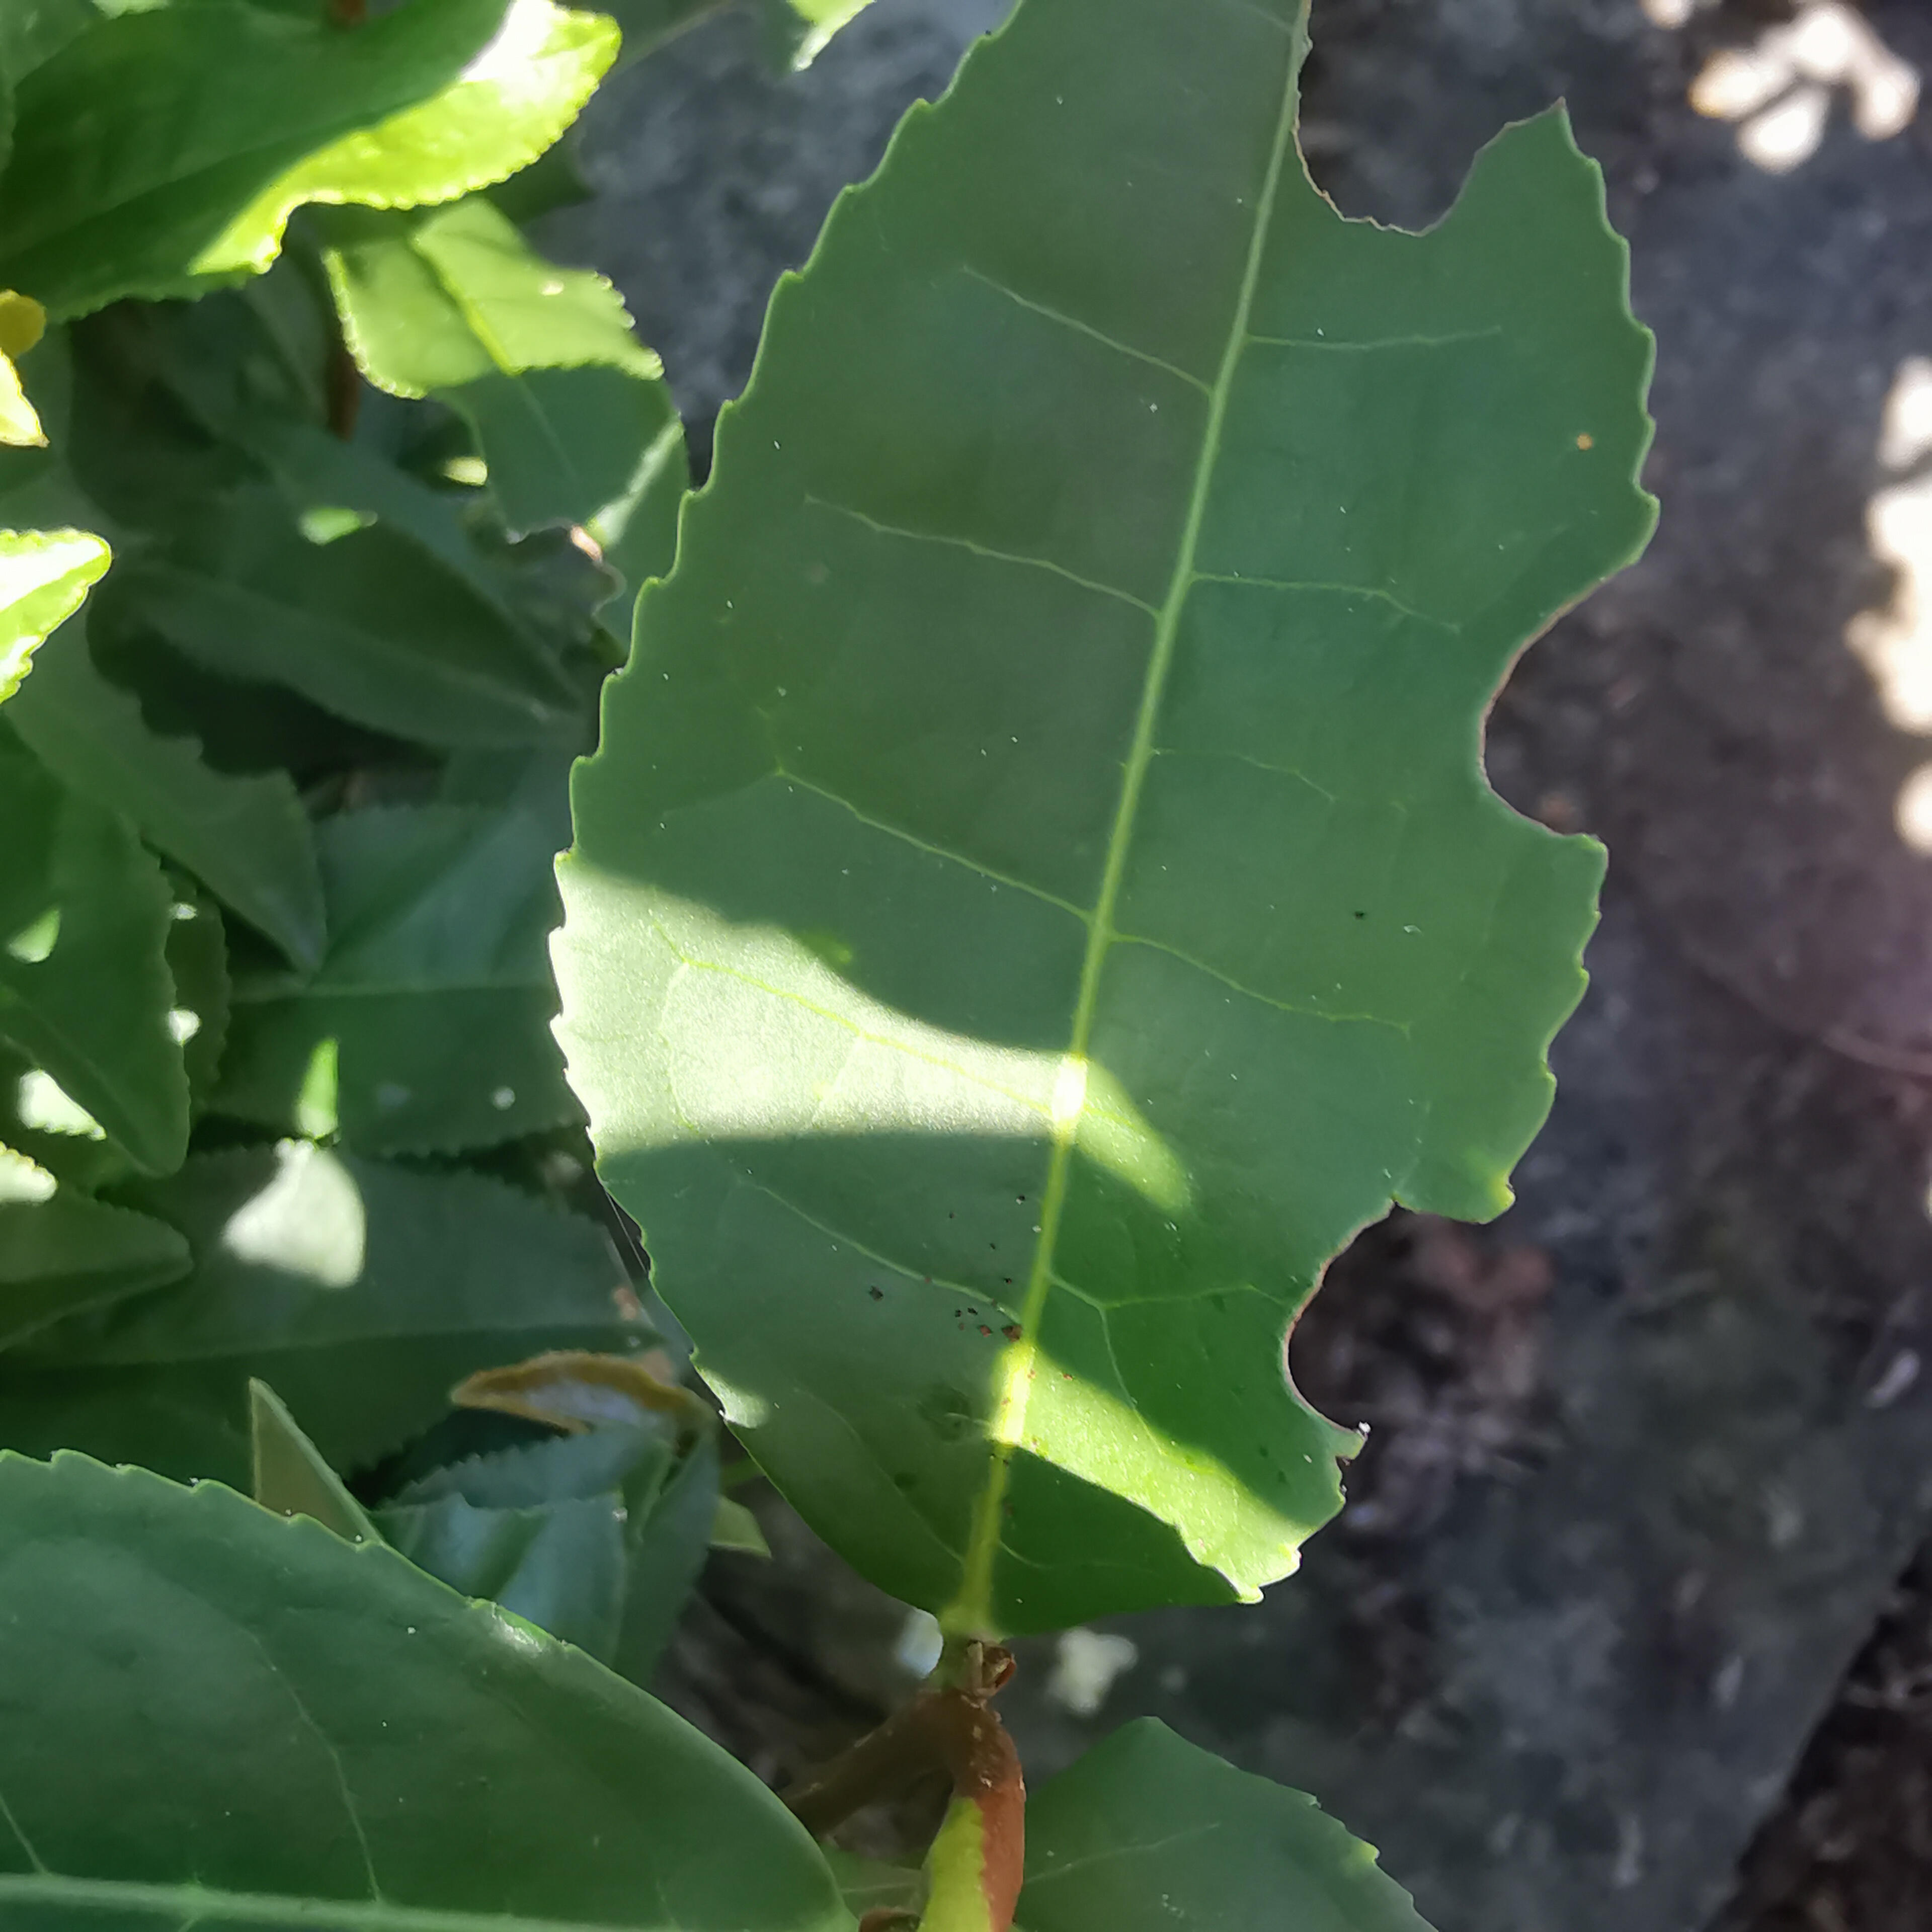chihuo_high: (547, 2, 1668, 1652)
